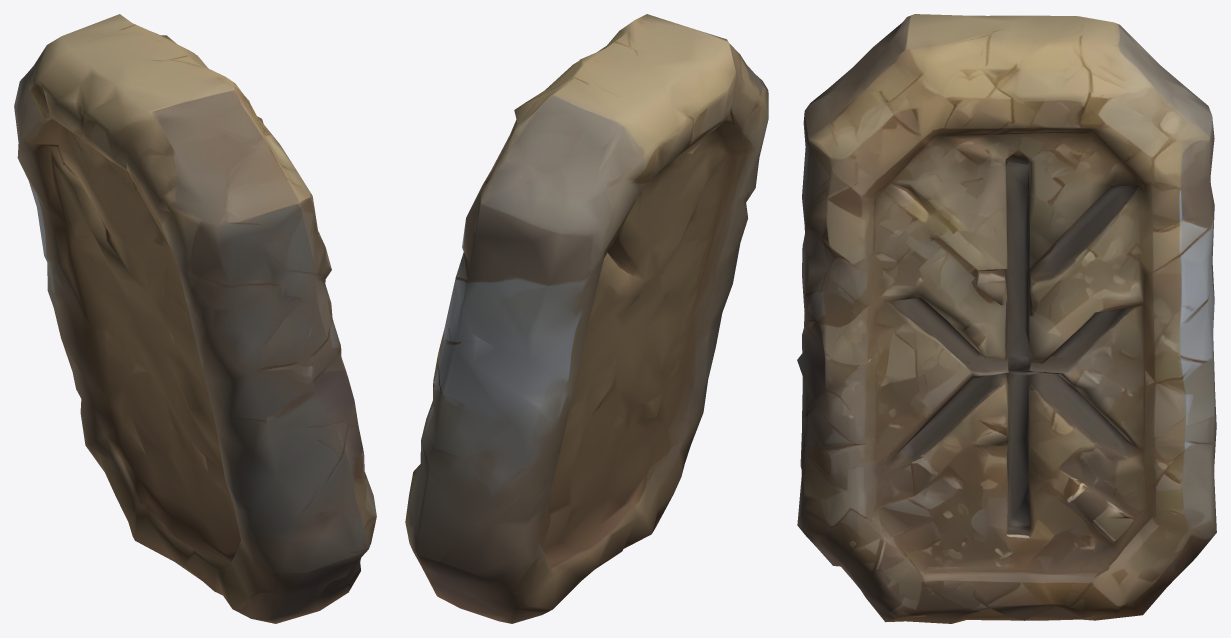
Rendered from item_rune.glb.
The picture shows the model from 3 angles, left to right: view 1: azimuth 30°, elevation 25°; view 2: azimuth 150°, elevation 25°; view 3: azimuth 270°, elevation 25°; orthographic projection.
Parts seen in each view (by area): view 1: tripo_node_78859732-3f72-4d92-9875-b218e6eb2691; view 2: tripo_node_78859732-3f72-4d92-9875-b218e6eb2691; view 3: tripo_node_78859732-3f72-4d92-9875-b218e6eb2691.
Part boxes in pixels (x1,y1,x2,y2): tripo_node_78859732-3f72-4d92-9875-b218e6eb2691: [14, 14, 376, 623]; tripo_node_78859732-3f72-4d92-9875-b218e6eb2691: [405, 14, 768, 623]; tripo_node_78859732-3f72-4d92-9875-b218e6eb2691: [797, 14, 1216, 623].
Size of the model in its own units: 0.4431 by 1 by 0.7037.
Materials: 1 (1 with a texture image).
